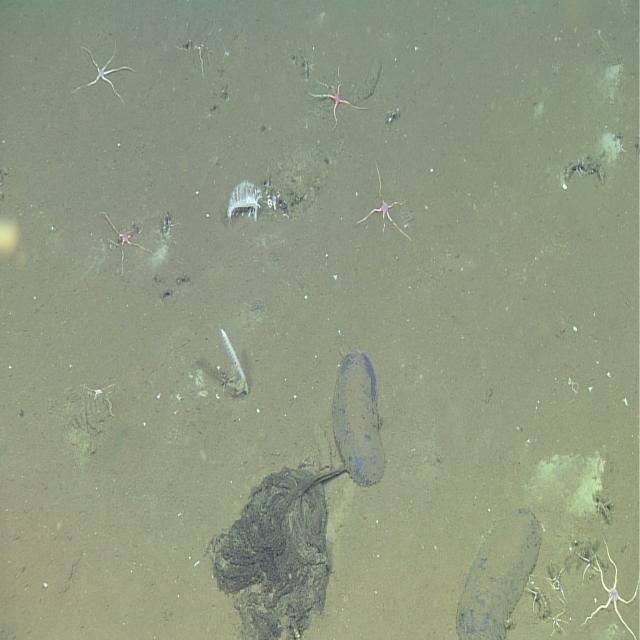Brittle Star: (581, 534, 638, 636), (92, 204, 161, 282), (70, 38, 137, 116), (304, 66, 372, 140), (357, 159, 414, 246)
Not Brittle Star: (203, 462, 337, 638), (451, 506, 550, 638), (328, 341, 387, 490), (218, 320, 251, 402), (217, 172, 265, 227)
